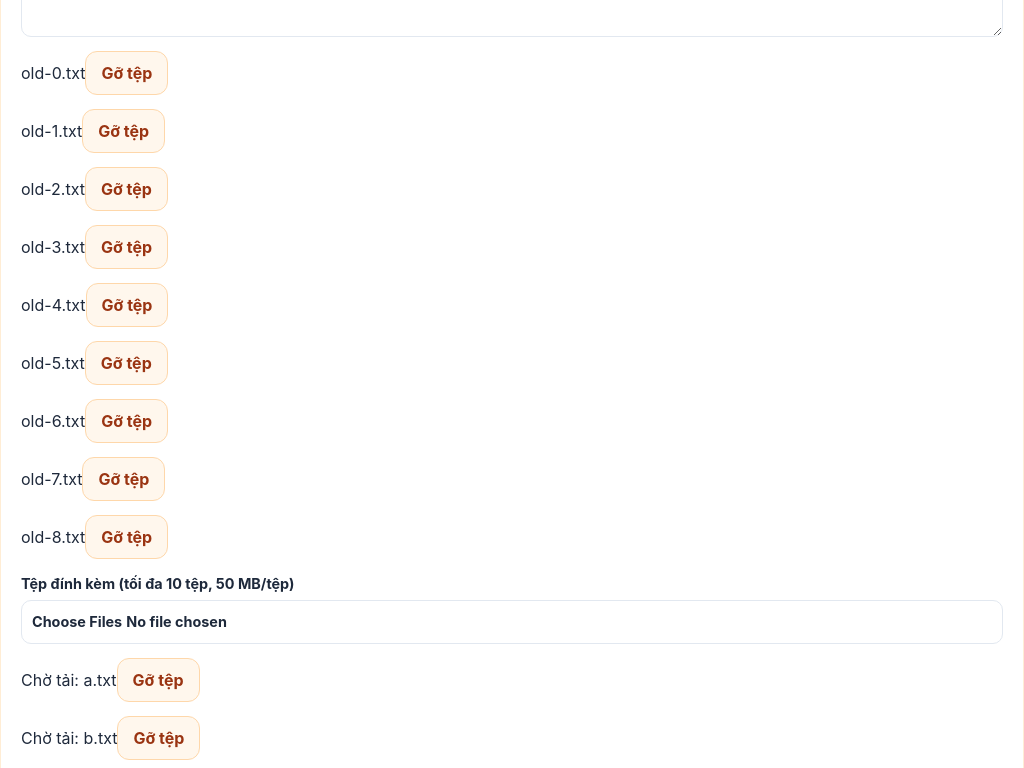
Test case: API portal screens › blocks more than ten total files without uploading or submitting
Earlier steps of the test are not shown.
(page scrolled)
Submit the form labelled "Bài làm"
Click the button with aria-label "Gỡ tệp old-0.txt" at (127, 73), box [85,51,168,95]
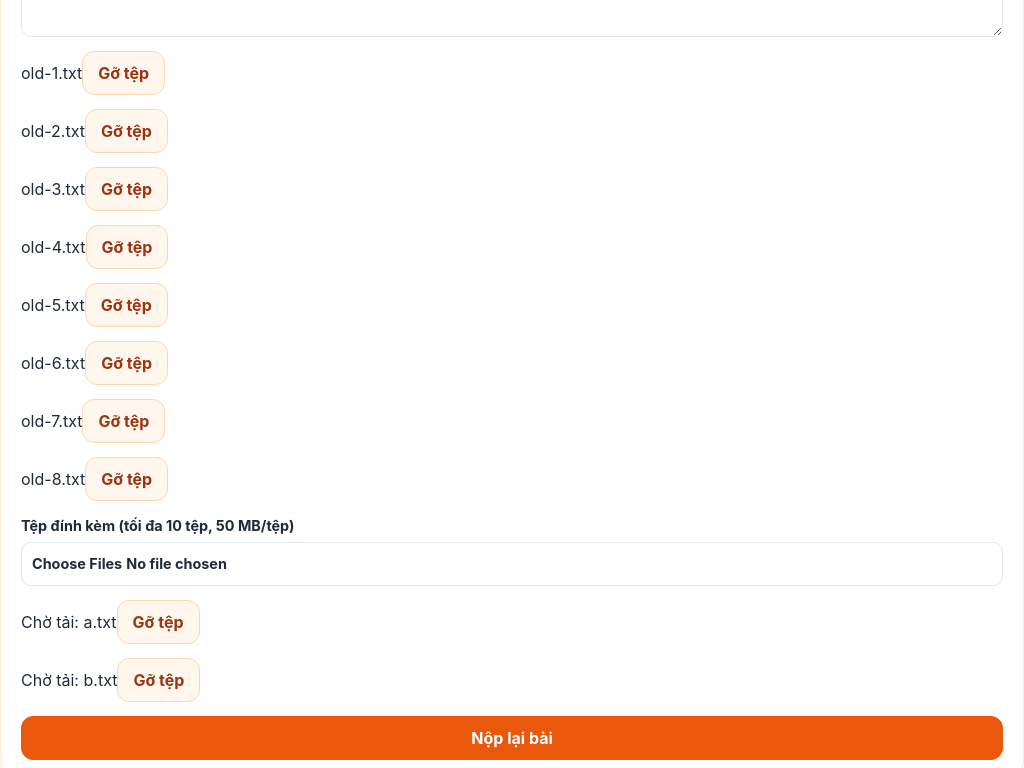
Result: the button "Nộp lại bài" is enabled at [21,716,1003,760]
